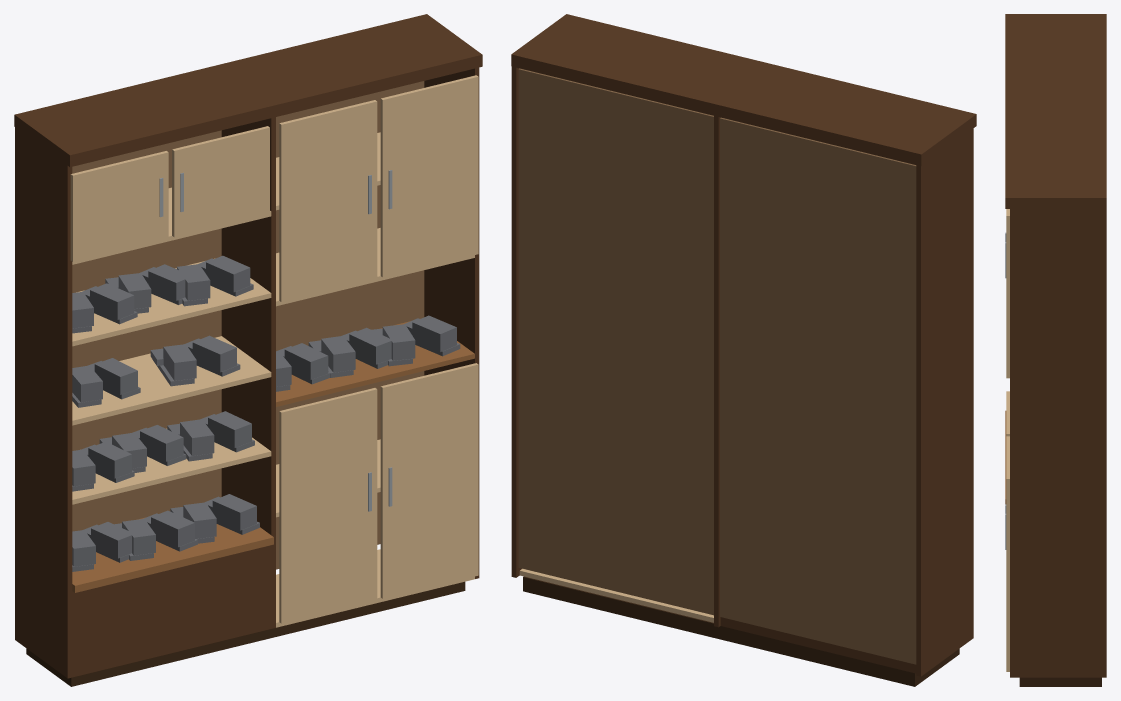
Rendered from shoecabinet.glb.
The picture shows the model from 3 angles, left to right: view 1: azimuth 30°, elevation 25°; view 2: azimuth 150°, elevation 25°; view 3: azimuth 270°, elevation 25°; orthographic projection. The views are drawn at different scales.
Parts seen in each view (by area): view 1: material-4-door, material-0-body, material-7-stash, material-3-interior, material-2-shelf, material-6-top, material-1-base, material-5-metal; view 2: material-3-interior, material-0-body, material-1-base, material-2-shelf; view 3: material-0-body, material-4-door, material-1-base, material-6-top, material-5-metal.
Boxes of the visible parts, <box> form: material-4-door: <box>70,75,478,623</box>; material-0-body: <box>14,14,482,678</box>; material-7-stash: <box>72,255,460,571</box>; material-3-interior: <box>72,81,424,569</box>; material-2-shelf: <box>72,132,474,627</box>; material-6-top: <box>72,321,474,592</box>; material-1-base: <box>26,581,465,686</box>; material-5-metal: <box>159,170,392,511</box>; material-3-interior: <box>518,68,916,664</box>; material-0-body: <box>511,14,976,676</box>; material-1-base: <box>523,576,959,686</box>; material-2-shelf: <box>519,568,713,622</box>; material-0-body: <box>1005,14,1106,677</box>; material-4-door: <box>1006,209,1009,671</box>; material-1-base: <box>1019,677,1101,686</box>; material-6-top: <box>1005,410,1006,504</box>; material-5-metal: <box>1005,232,1006,549</box>.
Bounding box in the file's own units: 1.8 × 2.25 × 0.42.
